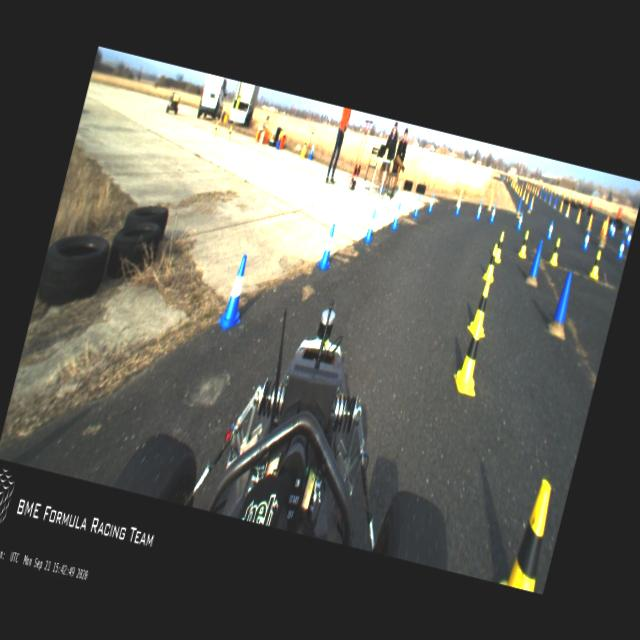blue_cone: (215, 252, 256, 334), (316, 222, 340, 272), (362, 208, 379, 245), (389, 200, 404, 232), (411, 194, 423, 218), (544, 218, 556, 242), (580, 228, 592, 251), (616, 237, 628, 260), (488, 202, 498, 225), (426, 192, 436, 214), (453, 196, 463, 217), (515, 210, 525, 230), (474, 201, 483, 221), (624, 230, 632, 247), (610, 222, 616, 236), (623, 224, 629, 236), (608, 220, 614, 232)
unknown_cone: (544, 268, 582, 340), (524, 237, 548, 286), (486, 190, 496, 212), (455, 184, 464, 207), (515, 197, 523, 214)
yellow_cone: (498, 472, 561, 592), (448, 311, 494, 398), (464, 276, 498, 340), (481, 241, 502, 282), (547, 235, 564, 267), (588, 248, 604, 280), (493, 230, 508, 264), (517, 228, 532, 258), (212, 118, 220, 136)
